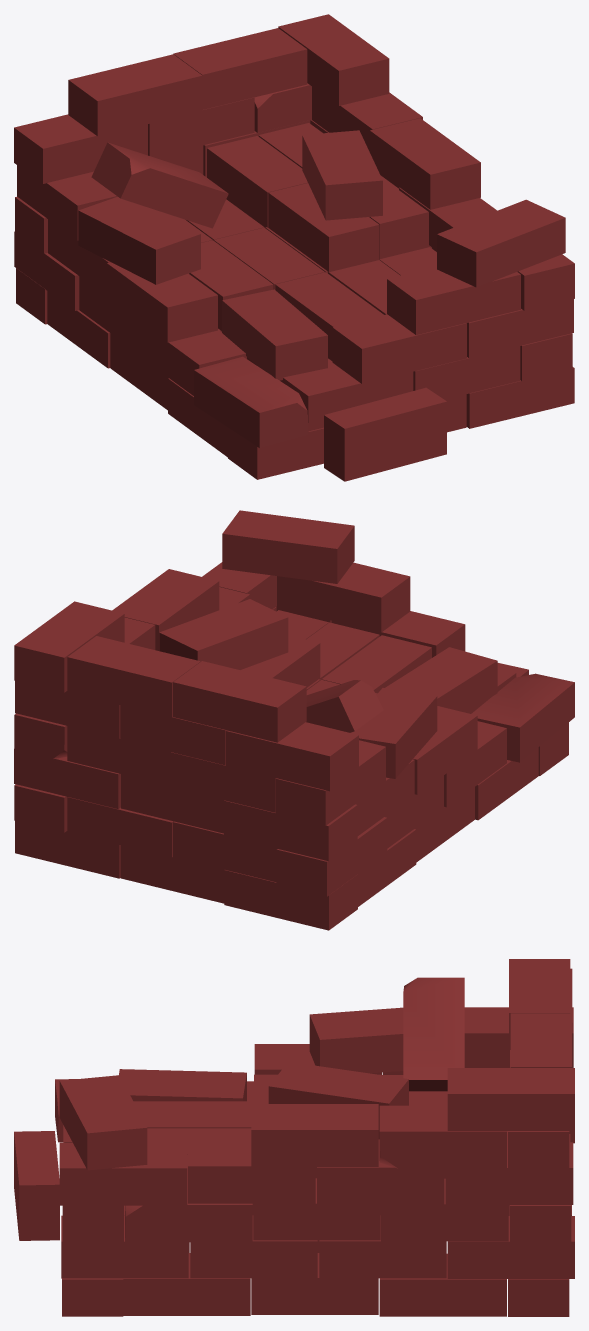
Rendered from SM_BricksPack02.fbx.
3 views of the same model, one above another, from view 1: azimuth 30°, elevation 25°; view 2: azimuth 150°, elevation 25°; view 3: azimuth 270°, elevation 25° (orthographic). The views are drawn at different scales.
Parts seen in each view (by area): view 1: BricksPack02; view 2: BricksPack02; view 3: BricksPack02.
Part boxes in pixels (x1,y1,x2,y2): BricksPack02: (14,14,574,481); BricksPack02: (14,510,574,930); BricksPack02: (14,959,574,1316).
Bounding box in the file's own units: 77.91 × 48.12 × 110.
